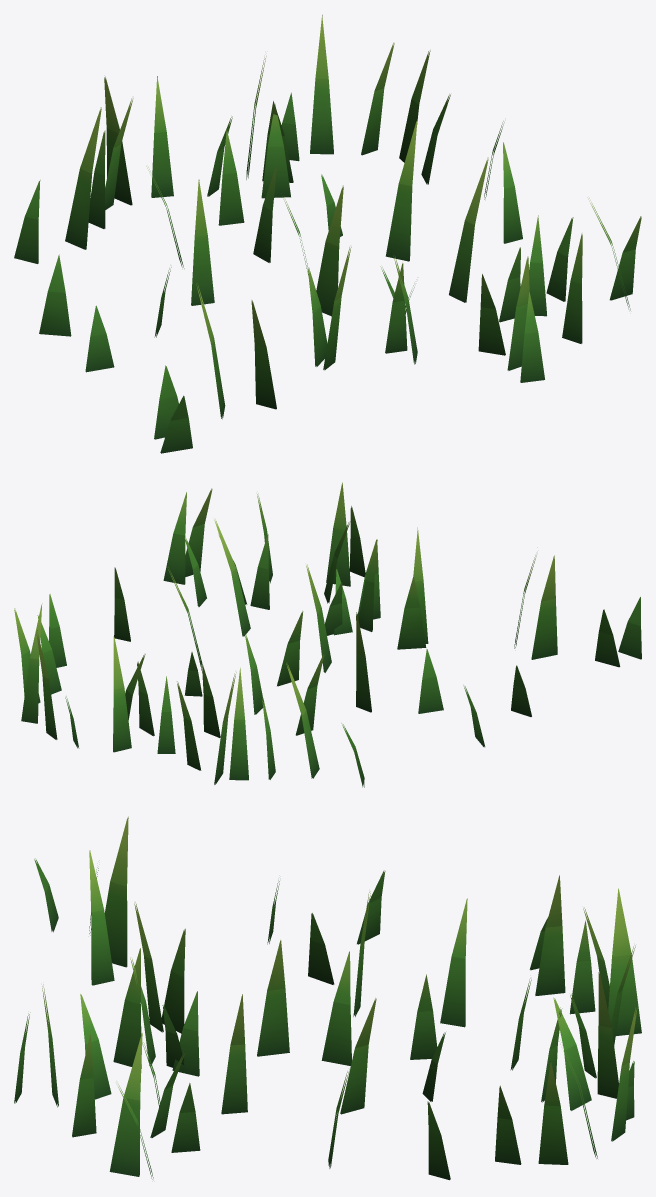
The model's file is Env_GrassPatch_1.glb.
3 views of the same model, one above another, from view 1: azimuth 30°, elevation 25°; view 2: azimuth 150°, elevation 25°; view 3: azimuth 270°, elevation 25° (orthographic). The views are drawn at different scales.
Visible parts, largest first — view 1: Env_GrassPatch_1.001; view 2: Env_GrassPatch_1.001; view 3: Env_GrassPatch_1.001.
Part boxes in pixels (x1,y1,x2,y2): Env_GrassPatch_1.001: (14, 14, 641, 453); Env_GrassPatch_1.001: (14, 482, 641, 787); Env_GrassPatch_1.001: (14, 816, 641, 1180).
Bounding box in the file's own units: 4 × 0.9615 × 3.97.
1 material, 1 textured.
